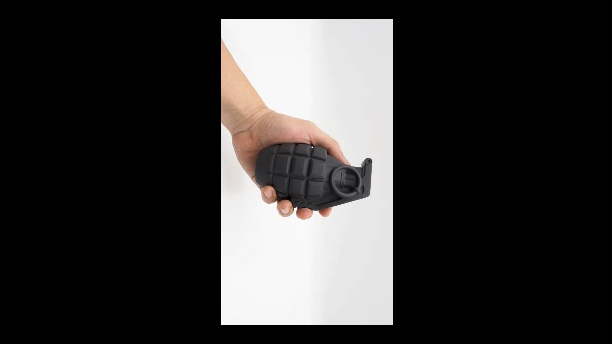e1: (256, 141, 372, 210)
